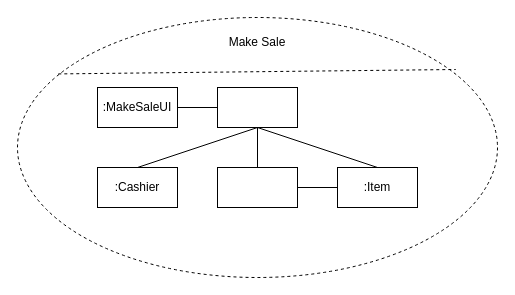
Image size: 515x295. Some labels were removed from this diagram. Each missing label, with the centre of its shape:
":MakeSale" belongs at (x=257, y=107).
":Sale" belongs at (x=257, y=187).
